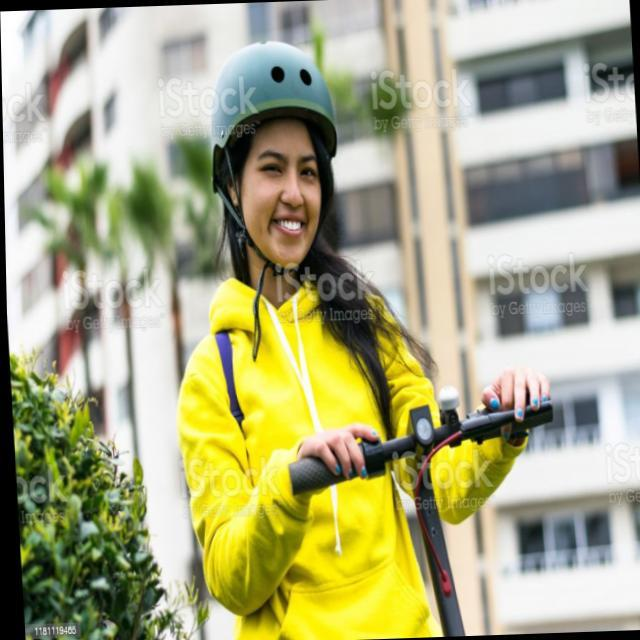Helmet: (206, 38, 342, 274)
